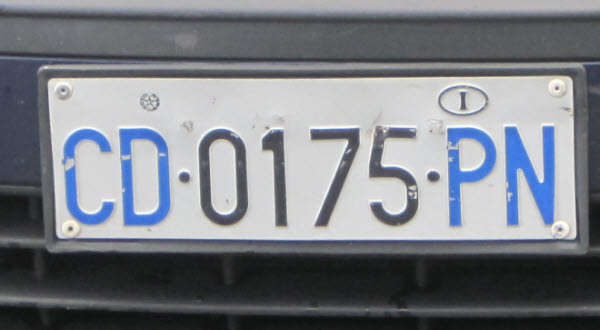license_plate: (45, 75, 578, 240)
